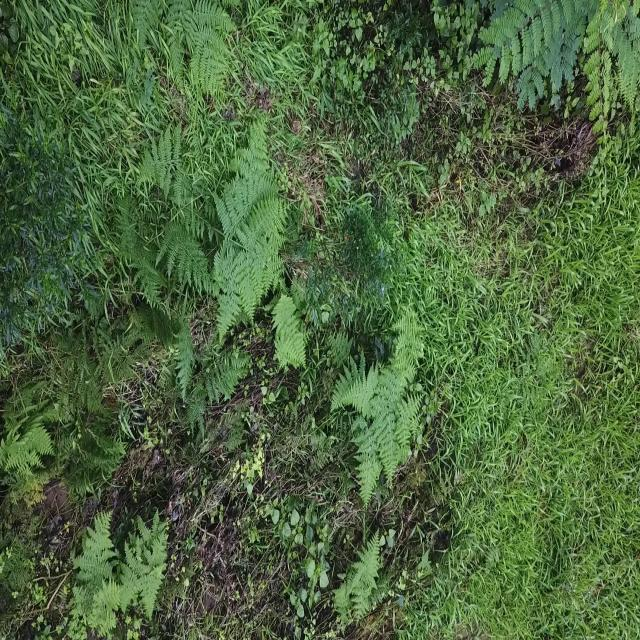Mysore-Thorn-Weed: (468, 0, 639, 123)
